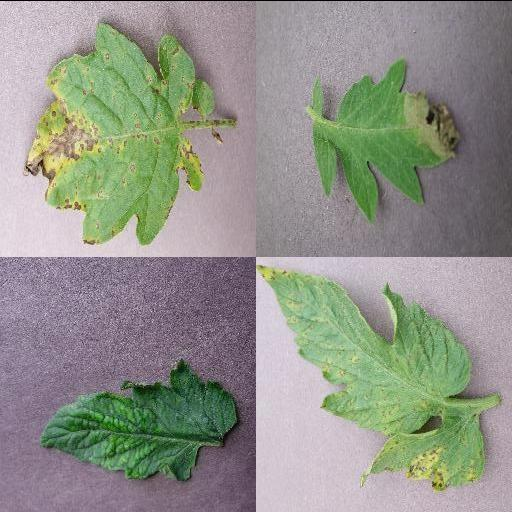Late Blight: (312, 59, 462, 221)
Mosaic Virus: (37, 360, 235, 480)
Septoria: (256, 264, 482, 488), (25, 19, 203, 243)
